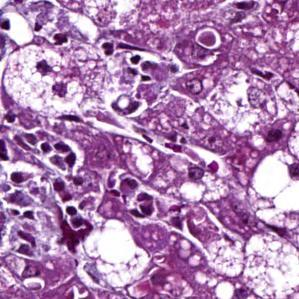ballooning: (4, 38, 115, 118), (206, 67, 296, 150), (79, 216, 150, 293)
